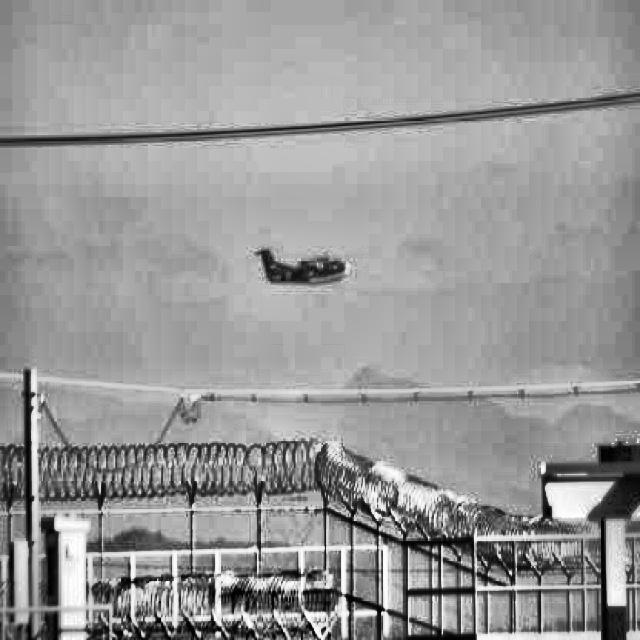US2: (253, 247, 352, 285)
